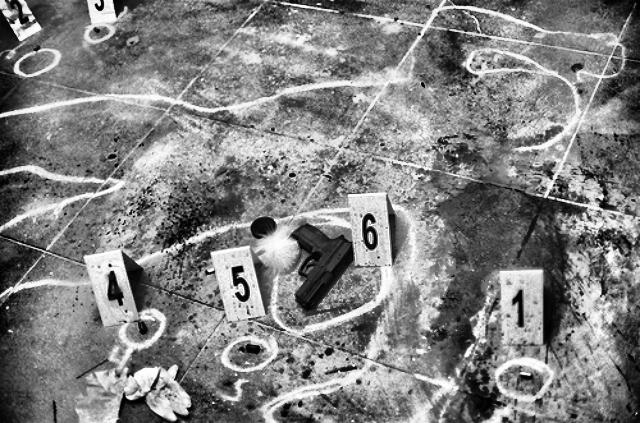pistol: (287, 219, 353, 315)
